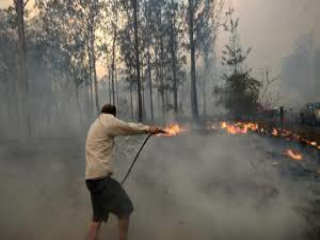fire: (225, 118, 317, 161), (160, 122, 184, 139)
